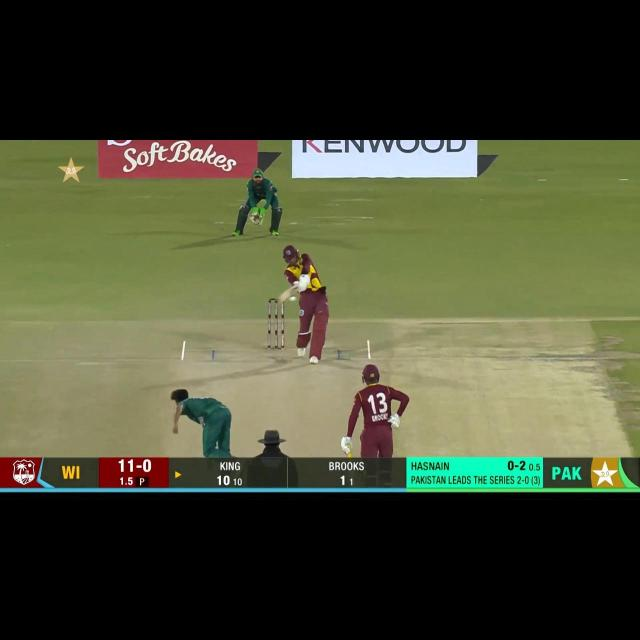bat: (277, 286, 301, 304)
toe: (276, 294, 285, 304)
